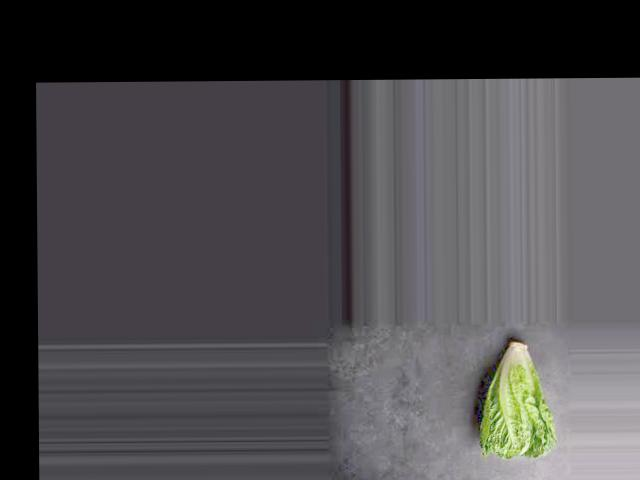lettuce: (357, 340, 506, 480)
